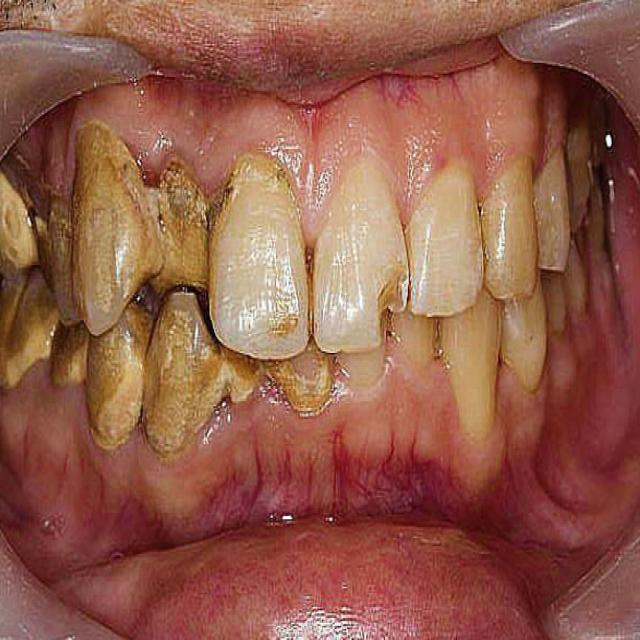caries: (374, 270, 408, 338)
